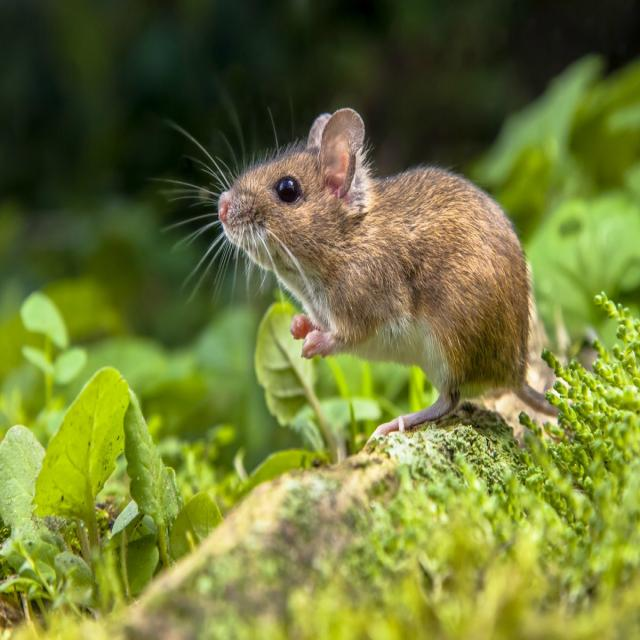Mouse: (218, 103, 541, 405)
